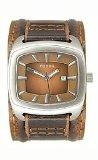watch: (9, 37, 85, 120)
